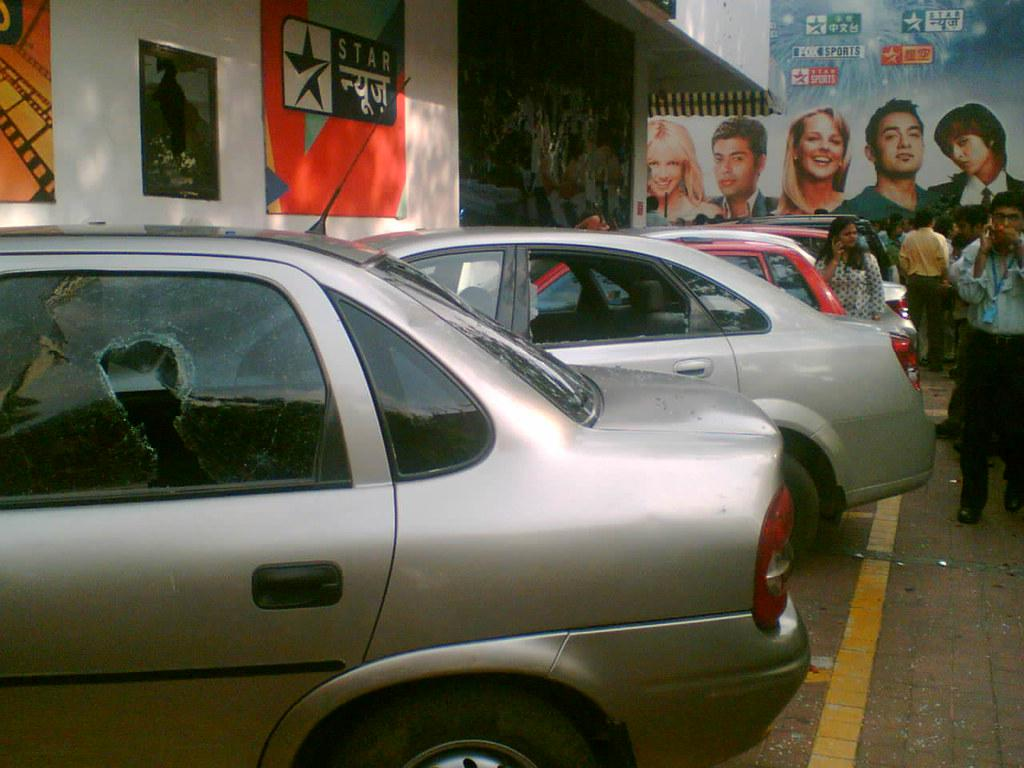doorouter-dent: (11, 268, 310, 646)
